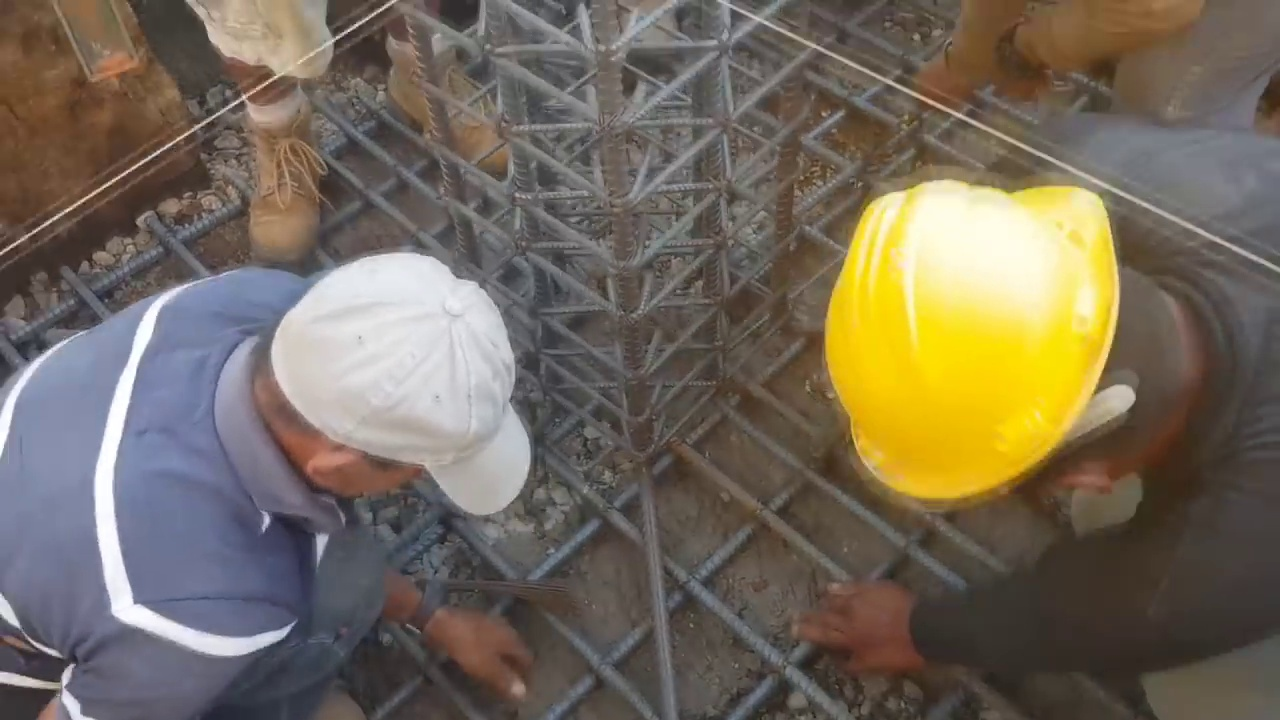helmet: (820, 179, 1116, 497)
helmet-off: (241, 245, 535, 527)
helmet-on: (820, 177, 1227, 513)
person: (787, 122, 1280, 720), (0, 237, 534, 720), (186, 0, 513, 272)
